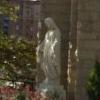Statue: (33, 14, 77, 94)
